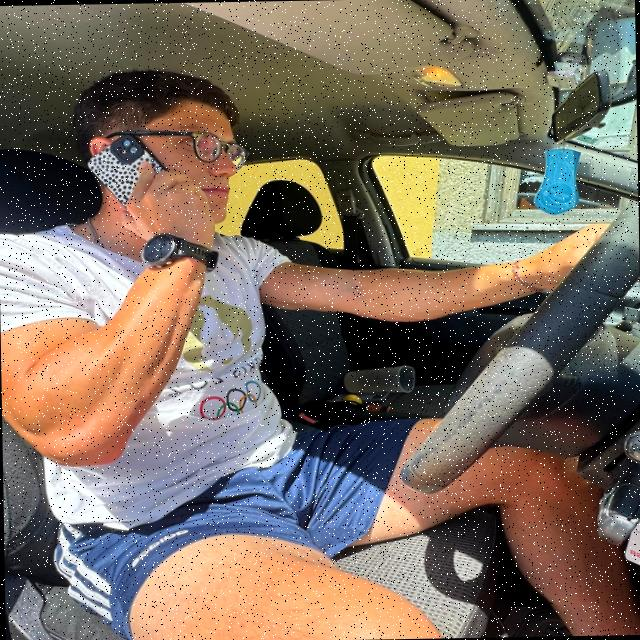Phone: (64, 110, 188, 245)
